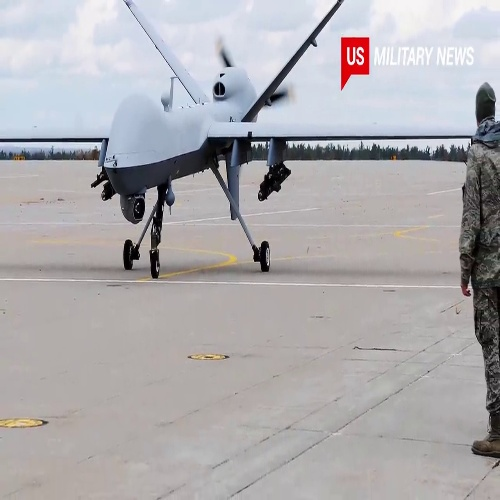uav245: (1, 2, 456, 278)
